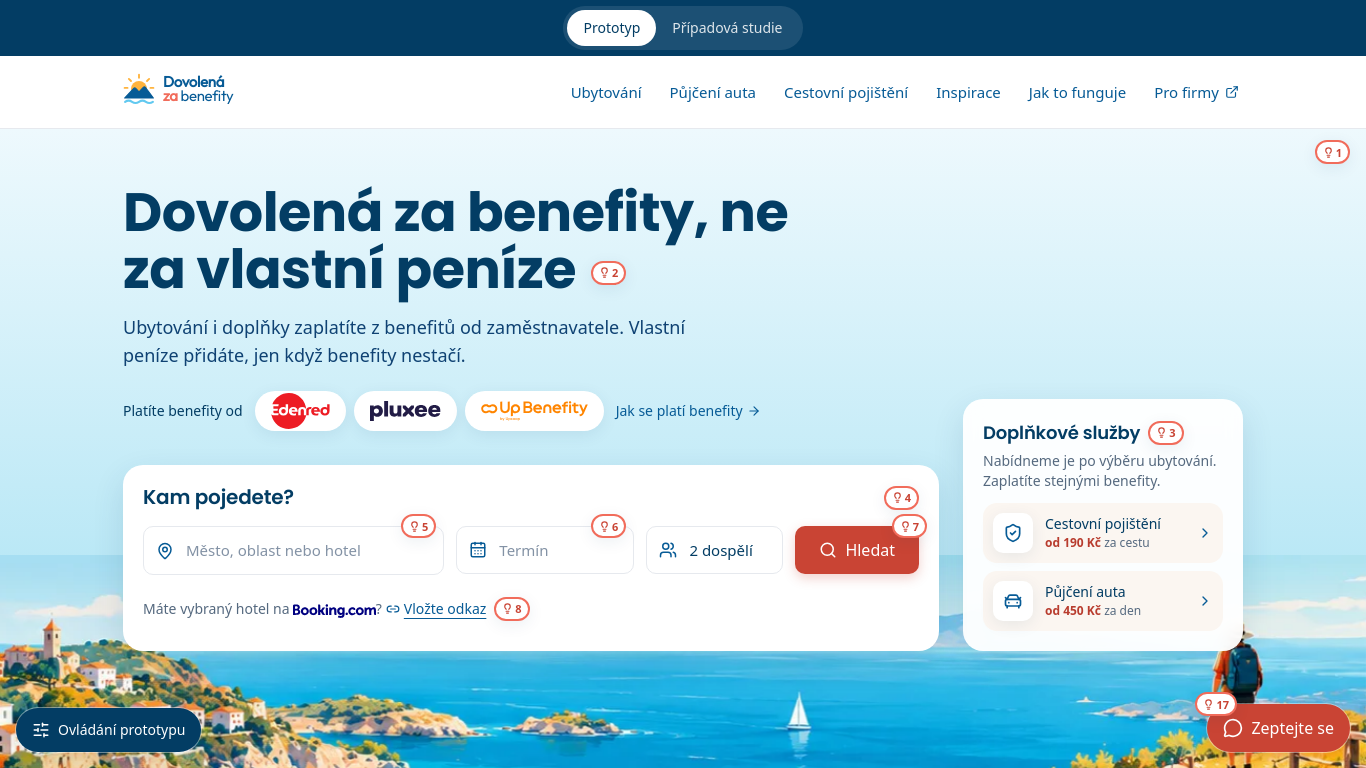
Test: Prototyp úvodní stránky › čísluje poznámky po stránce a ukáže vždy jen jednu
The width and height of the screenshot is (1366, 768).
Click the button named "Poznámka 1, " at (1332, 152), box [1315, 140, 1350, 164]
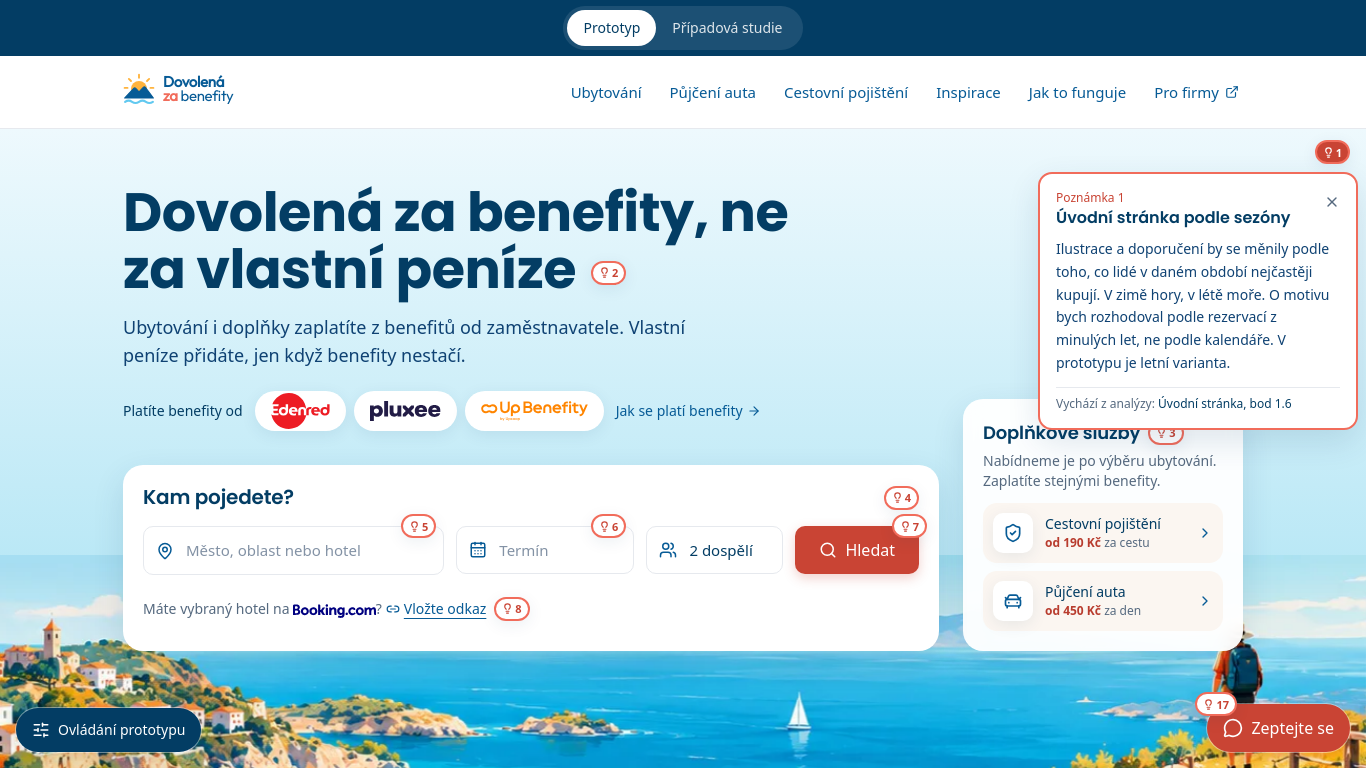
Check: the number of dialogs is 1, box [1038, 172, 1358, 430]
Check: the dialog shows "Vychází z analýzy", box [1056, 394, 1152, 412]
Click the button named "Poznámka 2, " at (608, 273), box [591, 261, 626, 285]
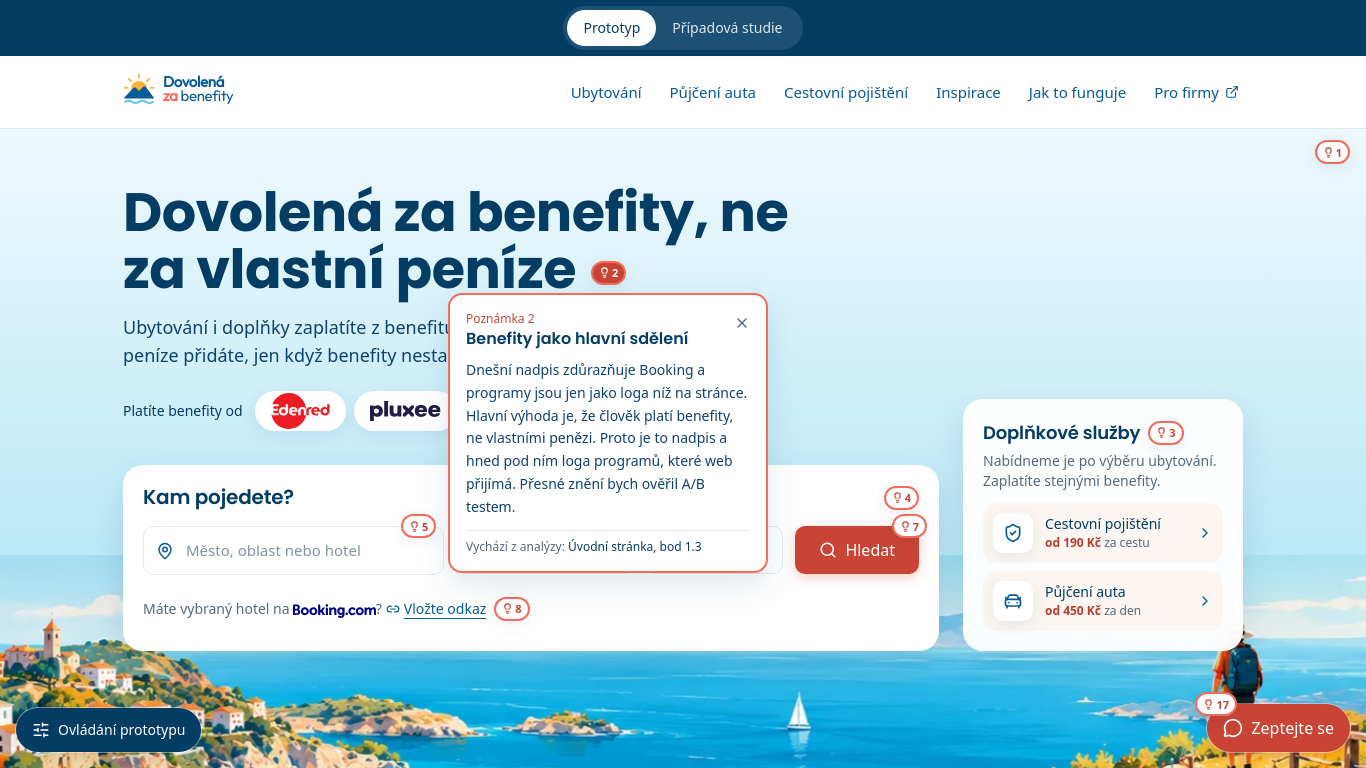
Check: the number of dialogs is 1, box [448, 293, 768, 573]
Check: the button named "Poznámka 2, " is expanded, box [591, 261, 626, 285]
Check: the button named "Poznámka 1, " is collapsed, box [1315, 140, 1350, 164]
